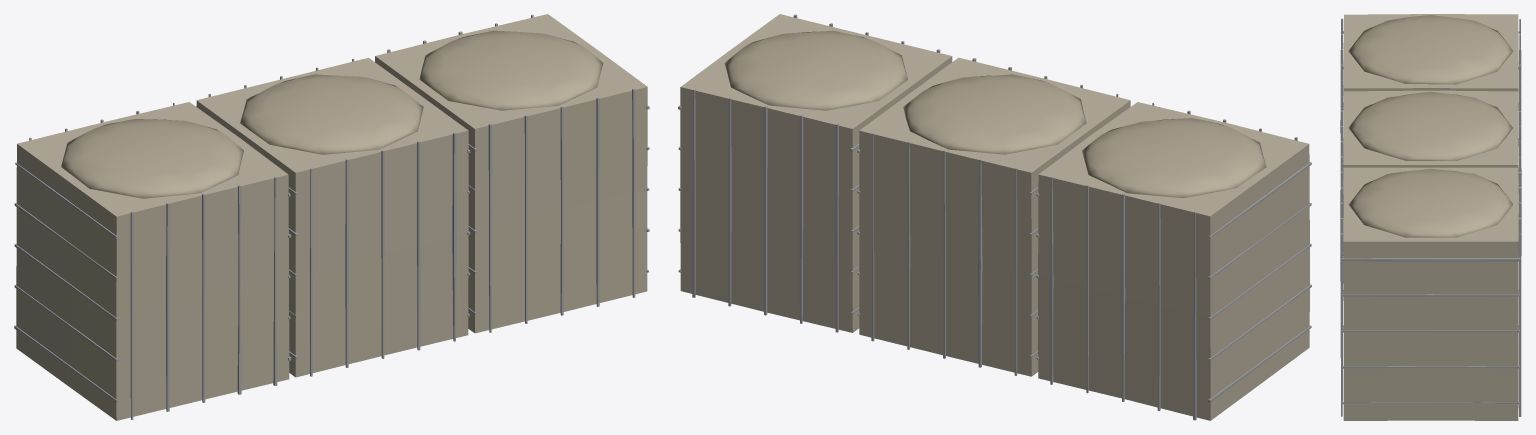
File: SM_Hesco.fbx
The picture shows the model from 3 angles, left to right: view 1: azimuth 30°, elevation 25°; view 2: azimuth 150°, elevation 25°; view 3: azimuth 270°, elevation 25°; orthographic projection. The views are drawn at different scales.
Parts seen in each view (by area): view 1: SM_Hesco; view 2: SM_Hesco; view 3: SM_Hesco.
Part boxes in pixels (x1,y1,x2,y2): SM_Hesco: (14, 14, 649, 420); SM_Hesco: (678, 14, 1311, 420); SM_Hesco: (1340, 14, 1521, 420).
Bounding box in the file's own units: 3.28 × 1.3 × 1.1.
